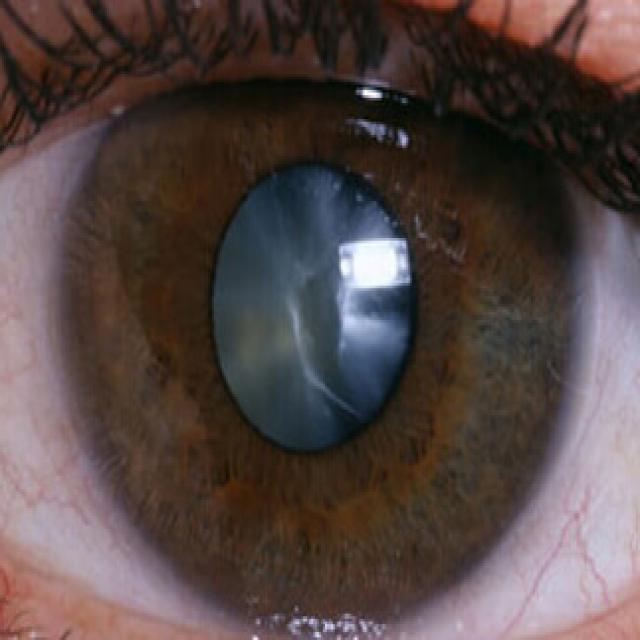Cataract: (63, 4, 572, 640)
